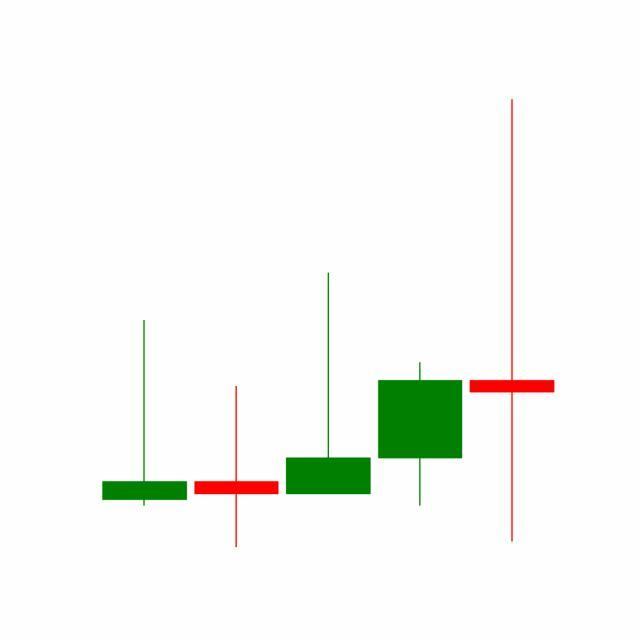Spinning Top: (466, 94, 559, 547)
